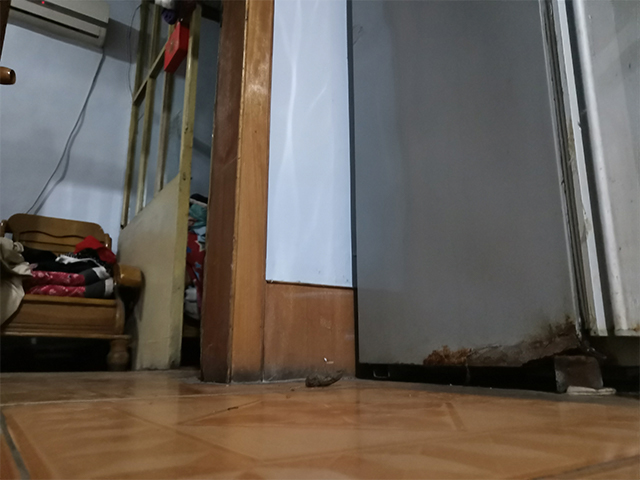feces: (302, 366, 347, 389)
stool: (1, 212, 146, 373)
